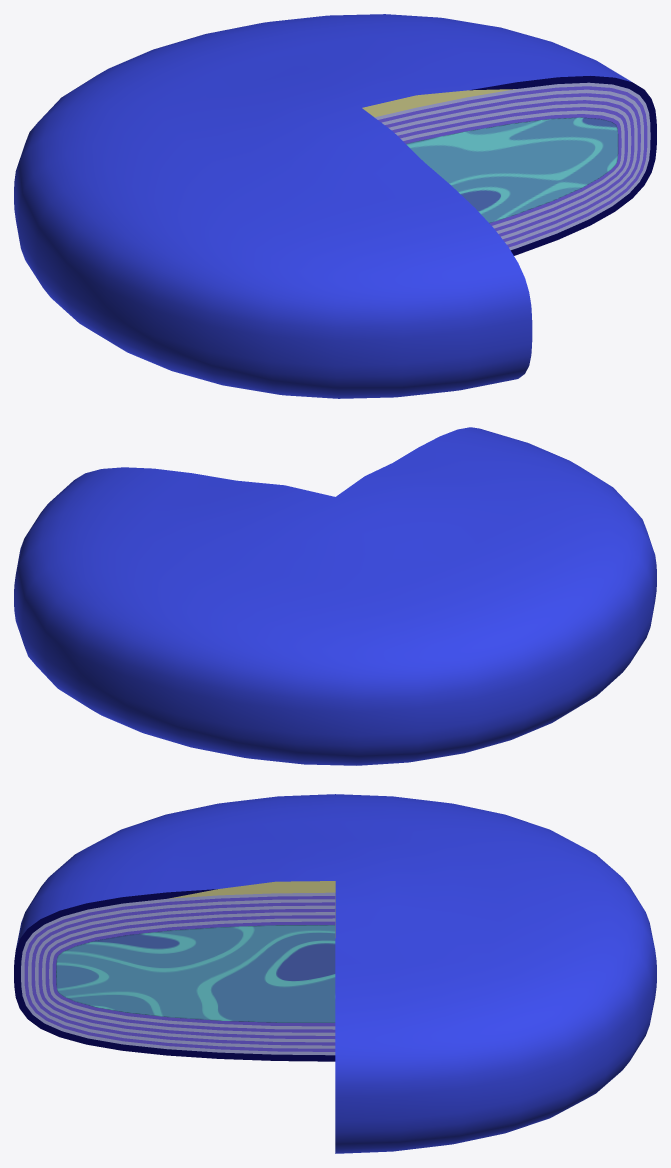
The model's file is Disk.glb.
The picture shows the model from 3 angles, top to bottom: view 1: azimuth 30°, elevation 25°; view 2: azimuth 150°, elevation 25°; view 3: azimuth 270°, elevation 25°; orthographic projection. The views are drawn at different scales.
Parts seen in each view (by area): view 1: Cube; view 2: Cube; view 3: Cube.
Boxes of the visible parts, left/top/right/bottom form: Cube: left=14, top=14, right=656, bottom=398; Cube: left=14, top=427, right=656, bottom=765; Cube: left=14, top=794, right=656, bottom=1153.
Size of the model in its own units: 0.9167 by 0.2842 by 0.9167.
6 materials, 1 textured.
